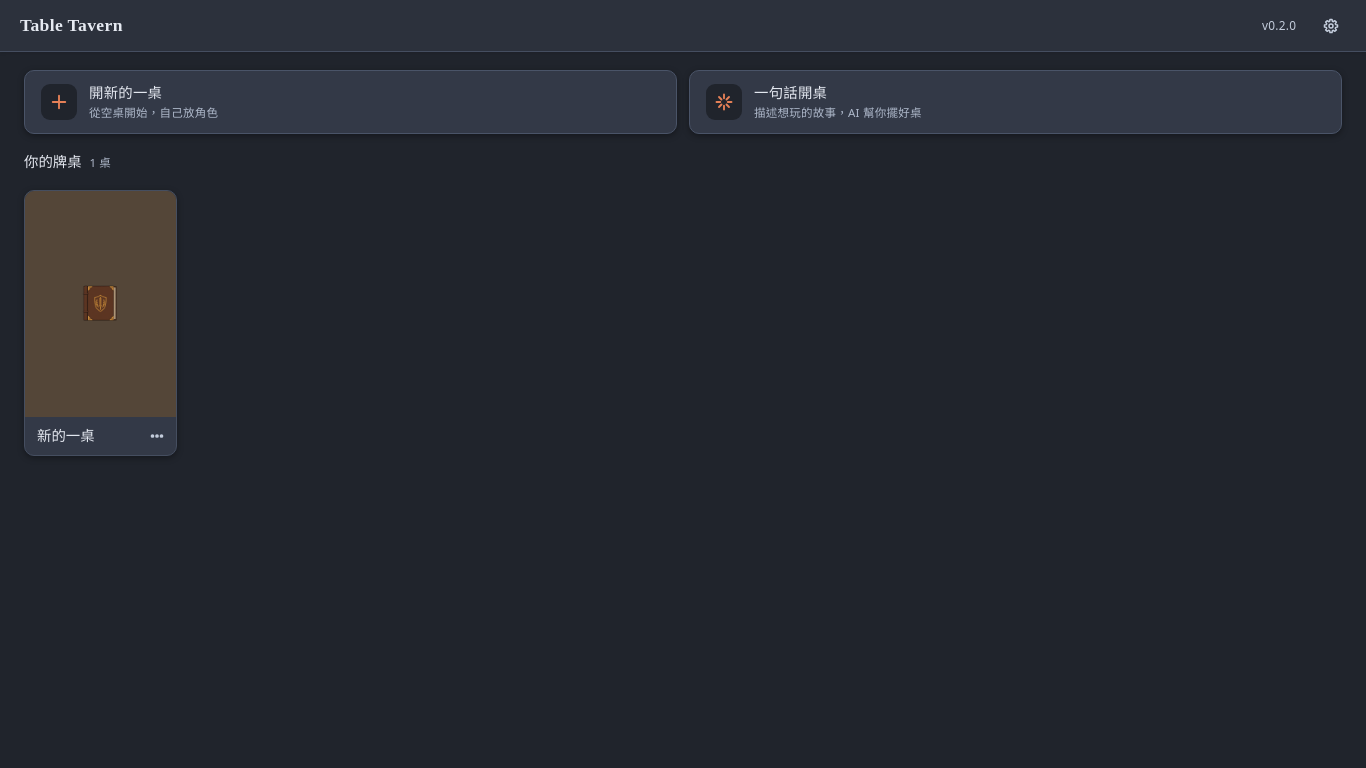
Scenario: lobby and table navigation › goes back to the lobby even when reclaiming the empty table fails
What coordinates should you click on to do the following:
click the button named "進入 新的一桌"
I would click on:
 (100, 304)
Its box is top-left (25, 191), bottom-right (176, 417).
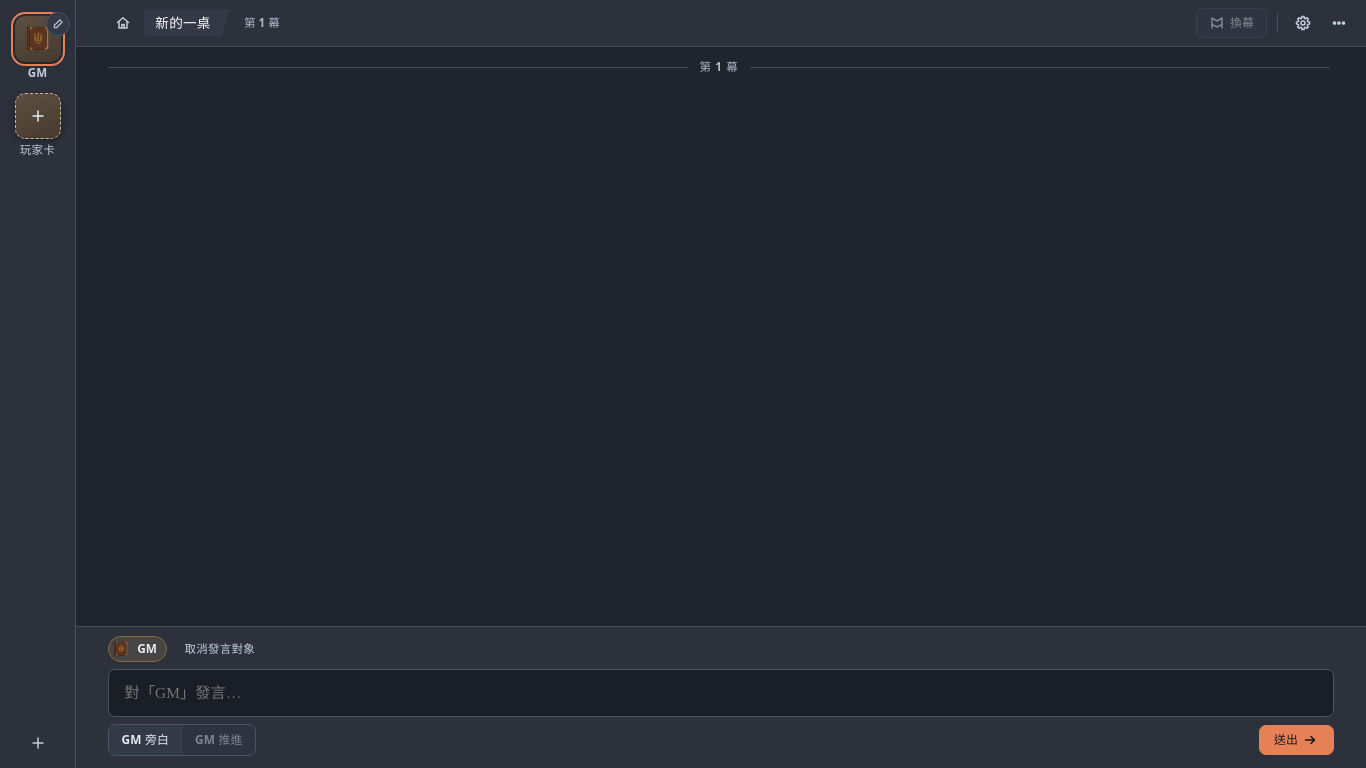
What coordinates should you click on to do the following:
click the button named "回大廳"
I would click on:
 (123, 23)
Its box is top-left (108, 8), bottom-right (138, 38).
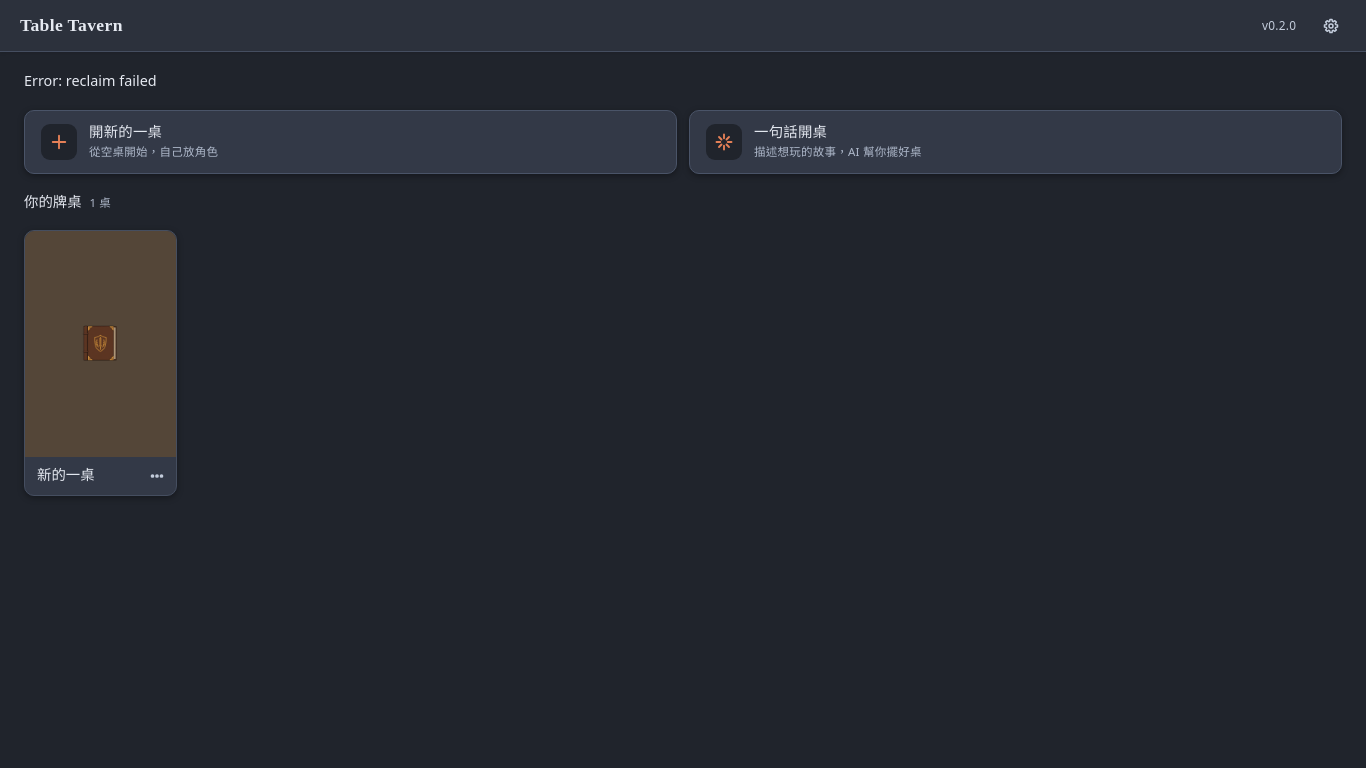
Now the element with class "lobby-notices" shows "reclaim failed", box top-left (24, 71), bottom-right (157, 90)
